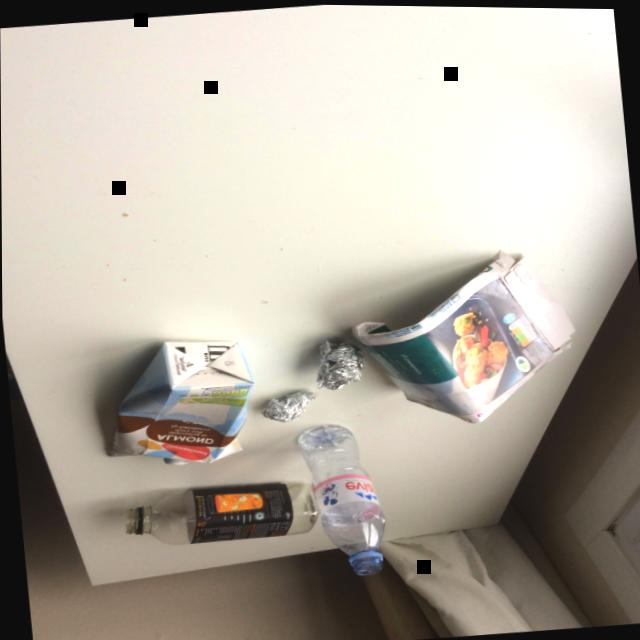Aluminium foil: (315, 338, 364, 388), (261, 389, 317, 420)
Clear plastic bottle: (298, 423, 383, 573), (123, 480, 317, 543)
Drink carton: (106, 339, 253, 463)
Meal carton: (347, 247, 573, 421)
